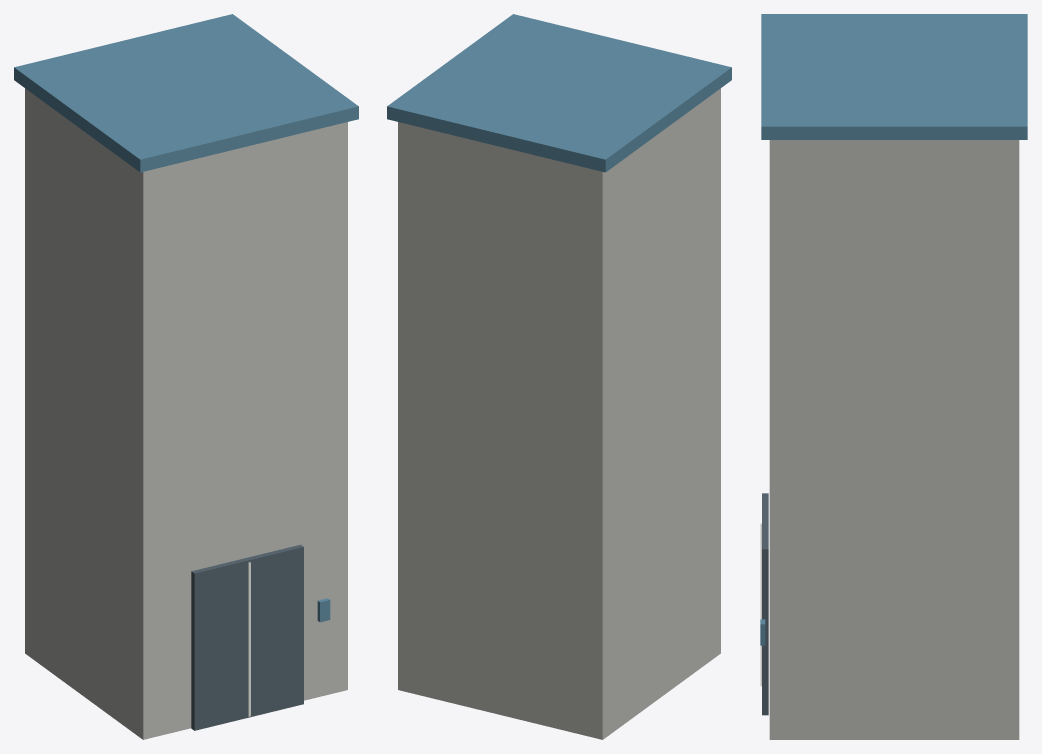
The model's file is american-football-stadium-kit-elevator-core-4da8067d__22355.glb.
The picture shows the model from 3 angles, left to right: view 1: azimuth 30°, elevation 25°; view 2: azimuth 150°, elevation 25°; view 3: azimuth 270°, elevation 25°; orthographic projection. The views are drawn at different scales.
Visible parts, largest first — view 1: elevator-core; view 2: elevator-core; view 3: elevator-core.
Part boxes in pixels (left/top/right/bottom): elevator-core: left=14, top=14, right=358, bottom=739; elevator-core: left=387, top=14, right=731, bottom=739; elevator-core: left=760, top=14, right=1027, bottom=739.
Size of the model in its own units: 3.2 by 8.18 by 3.21.
